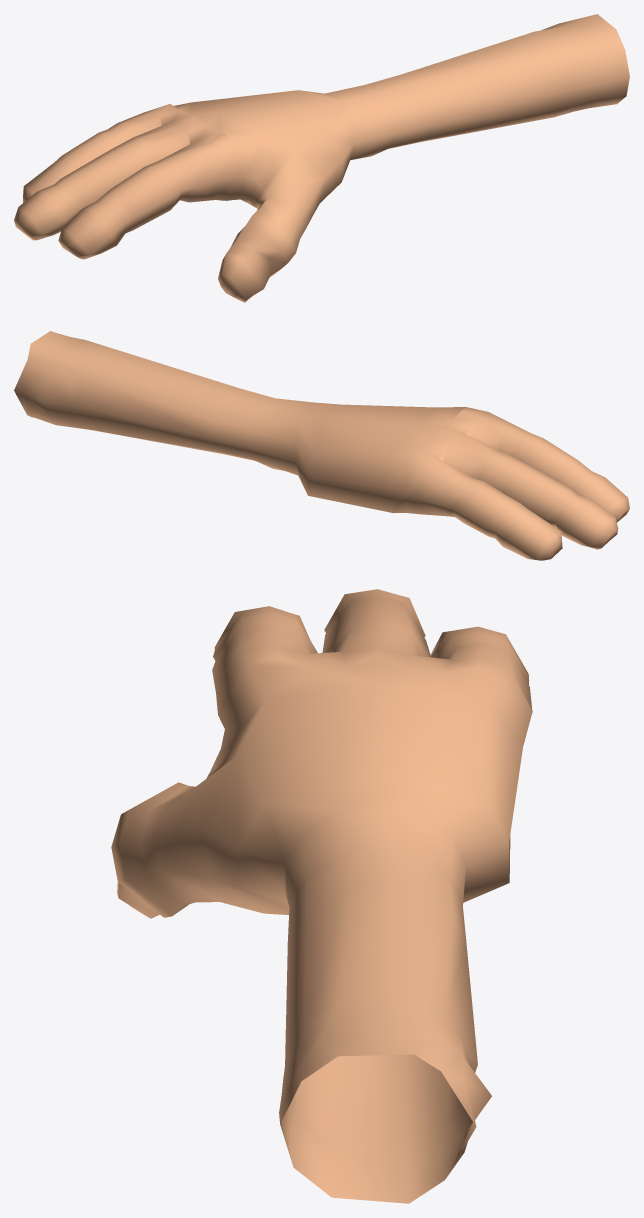
Rendered from pi_Porl_Hand_Right.obj.
3 views of the same model, one above another, from view 1: azimuth 30°, elevation 25°; view 2: azimuth 150°, elevation 25°; view 3: azimuth 270°, elevation 25° (orthographic). The views are drawn at different scales.
Parts seen in each view (by area): view 1: Character_Mesh_Plane.001; view 2: Character_Mesh_Plane.001; view 3: Character_Mesh_Plane.001.
Part boxes in pixels (x1,y1,x2,y2): Character_Mesh_Plane.001: [14, 14, 629, 302]; Character_Mesh_Plane.001: [14, 331, 629, 560]; Character_Mesh_Plane.001: [111, 589, 532, 1203].
Bounding box in the file's own units: 1.75 × 0.3877 × 0.5545.
